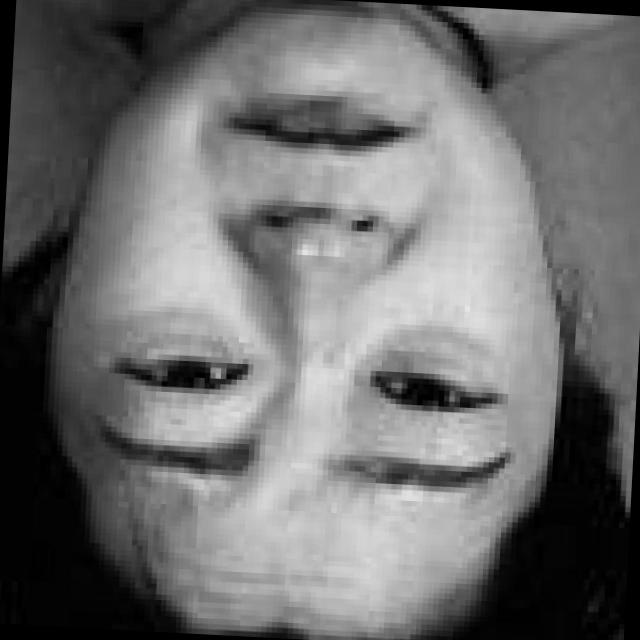sad: (73, 4, 582, 551)
